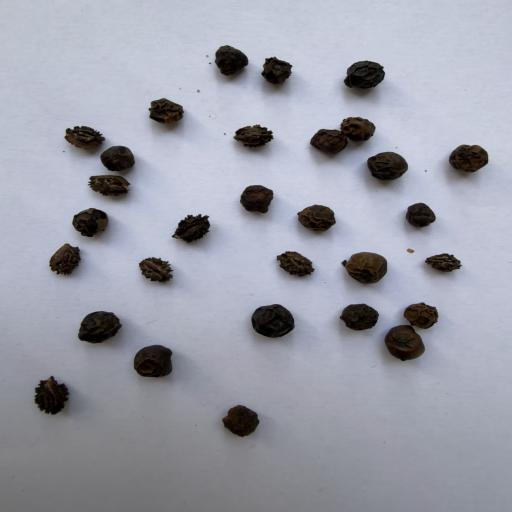Black_pepper: (249, 302, 304, 344), (213, 396, 262, 438), (124, 344, 178, 381), (75, 309, 123, 346), (336, 250, 389, 283), (238, 181, 280, 222), (334, 302, 385, 335), (448, 139, 493, 176), (344, 58, 389, 92), (294, 199, 339, 233), (384, 324, 423, 363), (363, 149, 410, 181), (98, 144, 144, 174), (72, 204, 111, 239), (257, 54, 299, 86), (213, 44, 252, 78), (145, 96, 187, 127), (399, 297, 441, 327), (404, 201, 443, 233), (311, 129, 348, 159), (338, 113, 377, 140)
papaya_seed: (152, 208, 232, 251), (28, 373, 89, 421), (267, 246, 329, 290), (128, 257, 187, 293), (426, 251, 478, 290), (50, 118, 109, 151), (47, 244, 107, 276), (230, 118, 280, 156), (82, 168, 137, 202)
